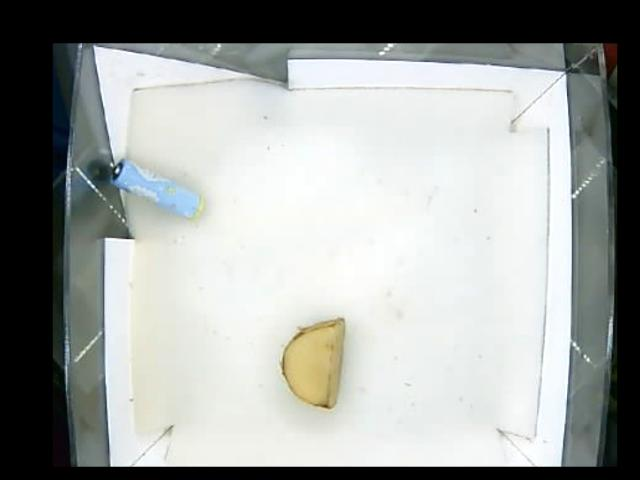Battery: (111, 157, 207, 220)
Potato: (278, 317, 348, 405)
